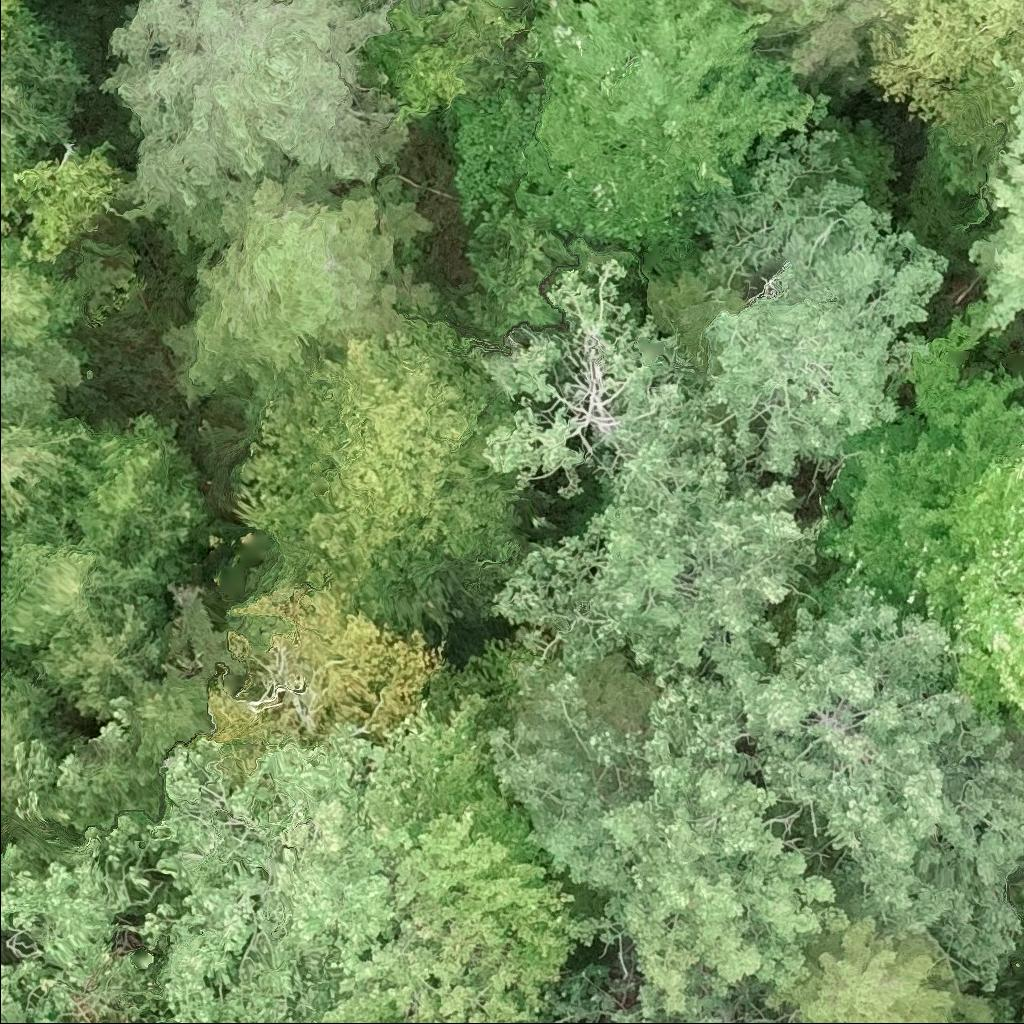crown: (488, 592, 1023, 1023), (477, 257, 839, 684), (227, 310, 523, 639), (689, 129, 954, 482), (814, 290, 1023, 734), (308, 689, 584, 1023), (123, 720, 415, 1023), (515, 0, 838, 254), (97, 0, 410, 257), (160, 167, 441, 416), (207, 579, 452, 776), (0, 813, 163, 1023), (725, 902, 1007, 1023), (64, 414, 206, 591), (30, 576, 175, 720), (869, 0, 1023, 123), (965, 49, 1023, 339), (0, 530, 133, 647), (0, 5, 96, 164), (731, 0, 888, 93), (0, 405, 93, 523), (0, 224, 87, 349), (0, 139, 79, 259), (523, 958, 644, 1023), (0, 672, 53, 817), (0, 335, 79, 421), (0, 955, 70, 1023), (684, 984, 802, 1023), (0, 0, 25, 40), (366, 0, 404, 7)
